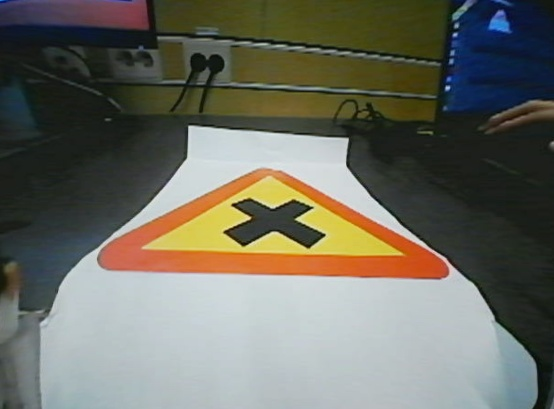junction: (79, 161, 457, 291)
